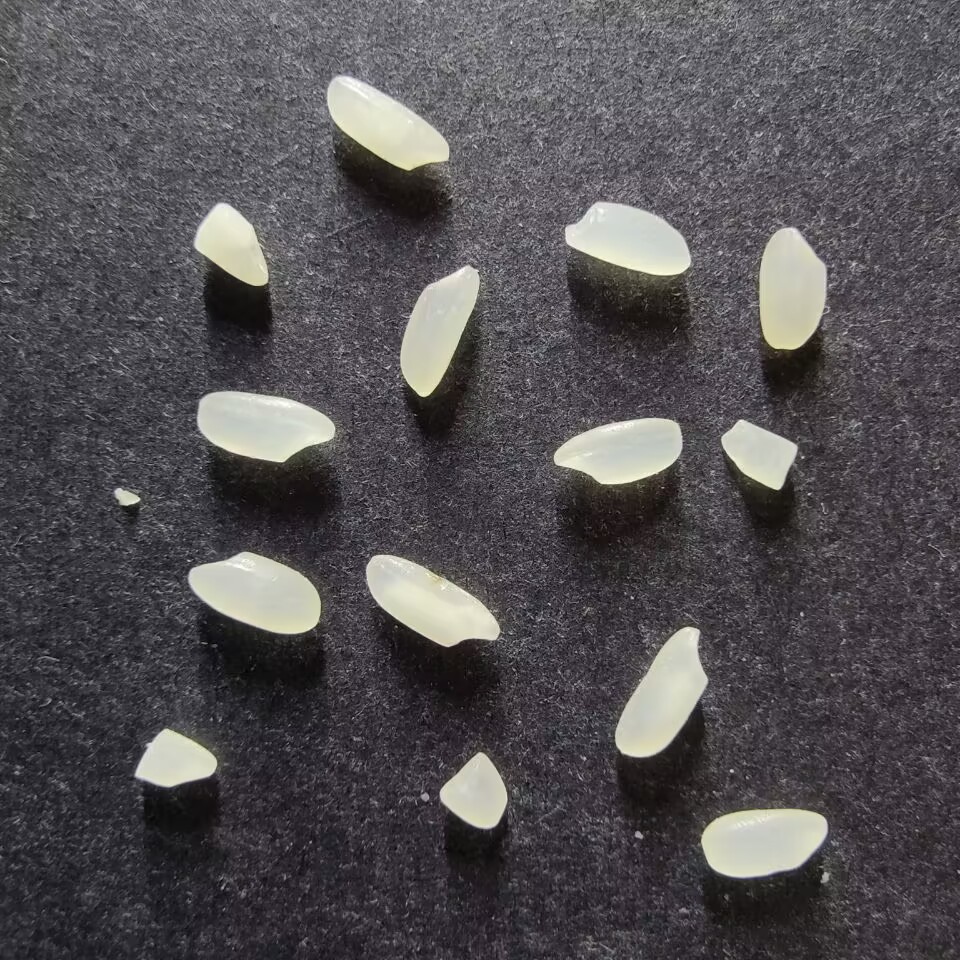broken: (192, 200, 269, 287), (437, 749, 508, 831), (719, 418, 798, 490), (133, 728, 218, 788)
rice: (363, 553, 500, 648), (612, 625, 708, 758), (324, 75, 451, 173), (186, 550, 321, 635), (398, 262, 479, 398), (195, 389, 335, 464), (563, 200, 692, 276), (552, 415, 681, 486), (699, 807, 828, 877), (757, 225, 827, 350)
